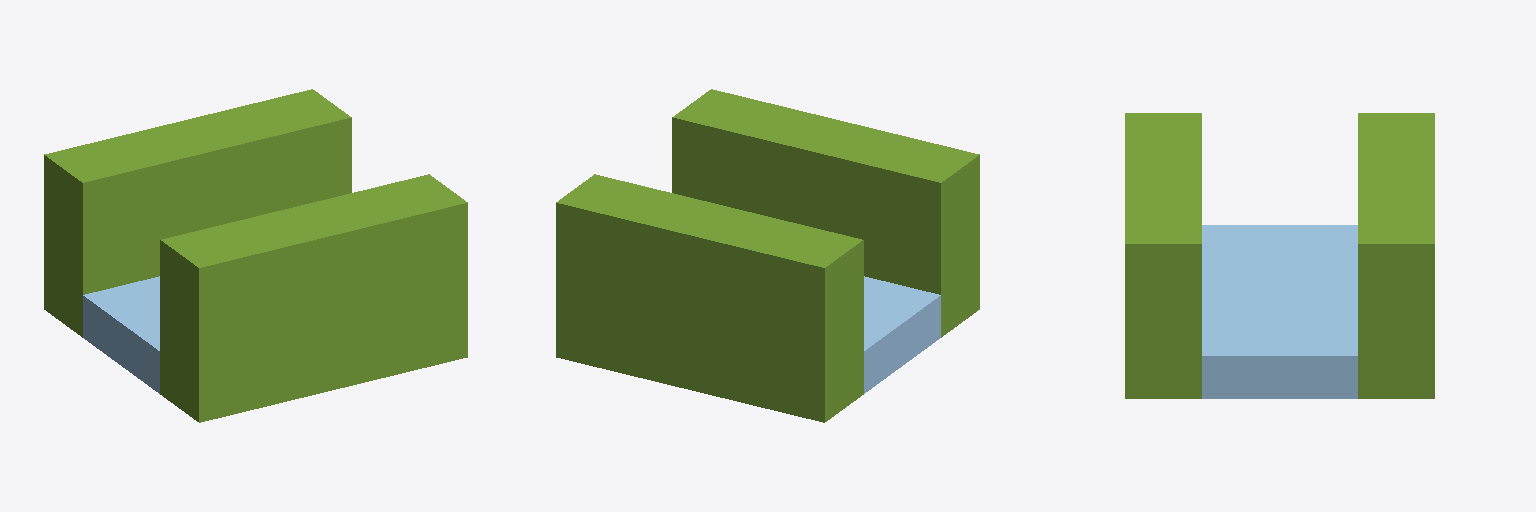
3 views of the same model, side by side, from view 1: azimuth 30°, elevation 25°; view 2: azimuth 150°, elevation 25°; view 3: azimuth 270°, elevation 25° (orthographic).
Parts seen in each view (by area): view 1: roadTile_195.001; view 2: roadTile_195.001; view 3: roadTile_195.001.
Boxes of the visible parts, <box> form: roadTile_195.001: <box>44,89,467,422</box>; roadTile_195.001: <box>556,89,979,422</box>; roadTile_195.001: <box>1125,113,1434,398</box>.
Size of the model in its own units: 3 by 1.65 by 3.